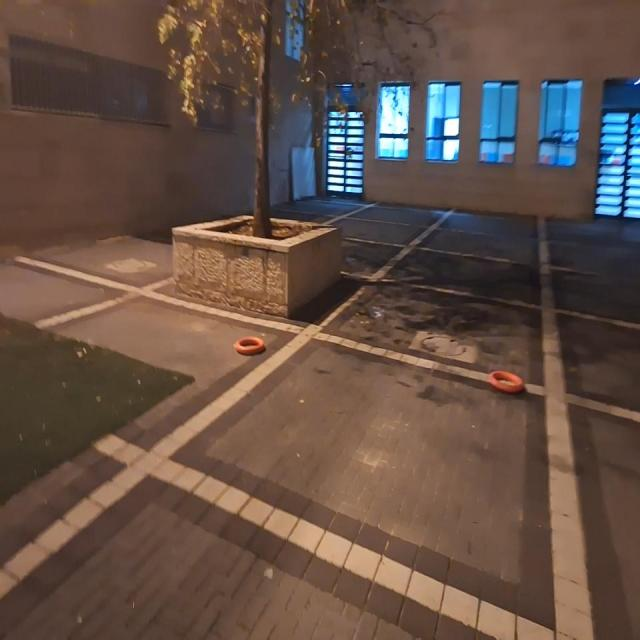note: (489, 371, 524, 393), (236, 337, 265, 355)
